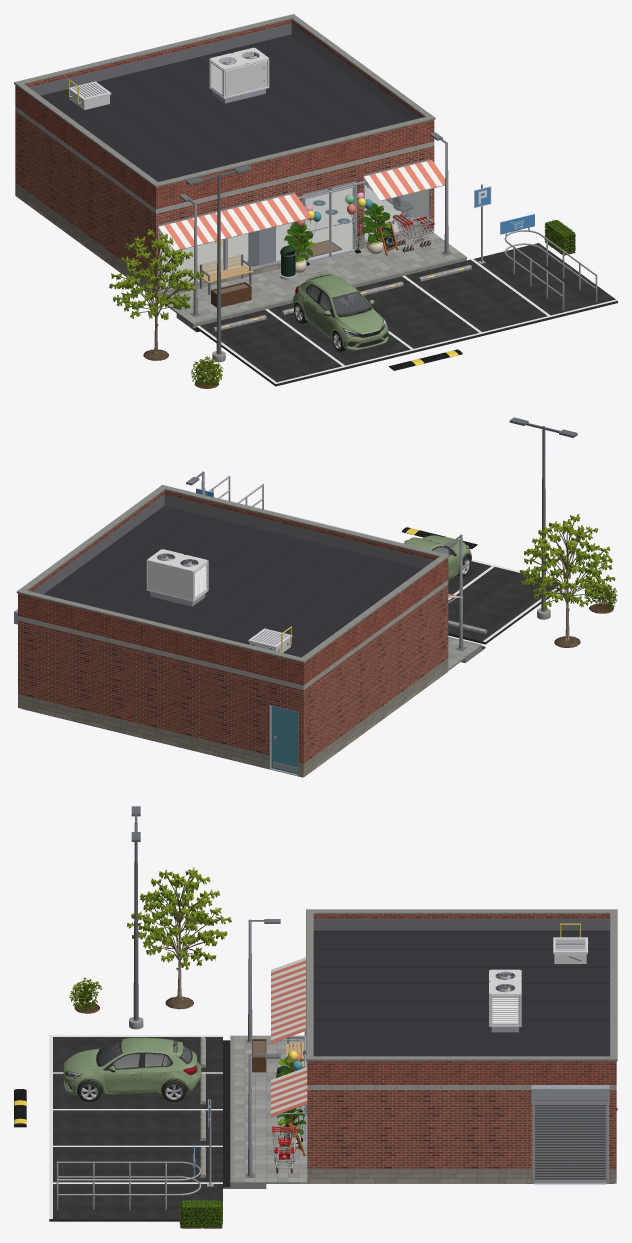
File: magaza.glb
3 views of the same model, one above another, from view 1: azimuth 30°, elevation 25°; view 2: azimuth 150°, elevation 25°; view 3: azimuth 270°, elevation 25° (orthographic). The views are drawn at different scales.
Visible parts, largest first — view 1: parking_space.002, parking_space.005, parking_space.006, car_hatchback_smart.001, tree_garden_hd.001, parking_space.004, wall_240.007, wall_240.008, shopfront_glass_240.003, wall_240.006, shopfront_glass_240.004, rooftop_hvac.002 (+85 smaller); view 2: wall_240.002, wall_240.004, wall_240.003, tree_garden_hd.001, parking_space.002, wall_240.008, wall_240.007, wall_240.006, wall_120.002, rooftop_hvac.002, wall_120.003, wall_door_120.002 (+66 smaller); view 3: wall_240.010, wall_240.009, car_hatchback_smart.001, parking_space.004, parking_space.006, parking_space.005, tree_garden_hd.001, shutter.001, wall_120.005, wall_shutter_240.002, parking_space.003, parking_space.002 (+76 smaller).
Part boxes in pixels (box(x1,y1,x2,y2)): parking_space.002: box(196, 310, 343, 386); parking_space.005: box(402, 259, 549, 336); parking_space.006: box(470, 243, 617, 319); car_hatchback_smart.001: box(292, 272, 388, 351); tree_garden_hd.001: box(109, 229, 203, 360); parking_space.004: box(355, 276, 480, 352); wall_240.007: box(75, 151, 115, 268); wall_240.008: box(36, 122, 75, 239); shopfront_glass_240.003: box(226, 175, 295, 281); wall_240.006: box(115, 180, 154, 297); shopfront_glass_240.004: box(363, 142, 431, 247); rooftop_hvac.002: box(209, 47, 269, 103); wall_240.002: box(196, 659, 266, 768); wall_240.004: box(55, 625, 125, 733); wall_240.003: box(125, 642, 195, 750); tree_garden_hd.001: box(519, 514, 615, 647); parking_space.002: box(448, 565, 563, 644); wall_240.008: box(325, 640, 365, 761); wall_240.007: box(366, 610, 406, 731); wall_240.006: box(406, 581, 447, 701); wall_120.002: box(20, 616, 55, 716); rooftop_hvac.002: box(146, 549, 208, 606); wall_120.003: box(305, 670, 325, 775); wall_door_120.002: box(266, 676, 301, 776); wall_240.010: box(396, 1085, 483, 1183); wall_240.009: box(310, 1085, 396, 1183); car_hatchback_smart.001: box(63, 1037, 201, 1101); parking_space.004: box(49, 1109, 222, 1145); parking_space.006: box(49, 1182, 222, 1221); parking_space.005: box(49, 1145, 222, 1182); tree_garden_hd.001: box(127, 867, 231, 1009); shutter.001: box(535, 1105, 605, 1182); wall_120.005: box(483, 1085, 526, 1183); wall_shutter_240.002: box(527, 1085, 613, 1184); parking_space.003: box(49, 1072, 222, 1108); parking_space.002: box(49, 1035, 222, 1072).
Size of the model in its own units: 16.22 by 6.4 by 16.69.
177 materials, 121 textured.
